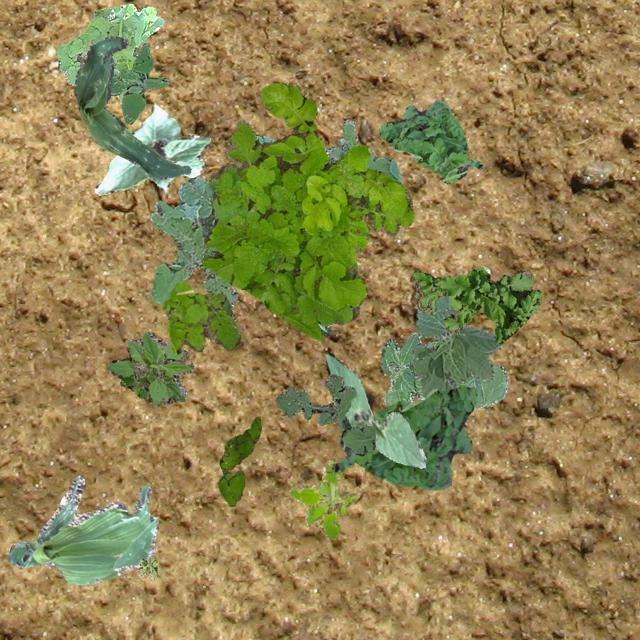crop: (6, 474, 158, 584), (74, 36, 190, 178), (324, 352, 426, 468), (94, 102, 210, 194), (380, 332, 506, 406), (412, 294, 501, 398), (316, 322, 331, 334)
weed: (202, 80, 412, 340), (150, 118, 400, 320), (330, 384, 474, 488), (56, 2, 164, 102), (414, 266, 542, 344), (378, 99, 482, 182), (274, 374, 374, 454), (106, 330, 194, 404), (162, 280, 240, 352), (288, 459, 358, 538), (108, 41, 168, 122), (217, 416, 260, 506), (136, 554, 156, 578)
